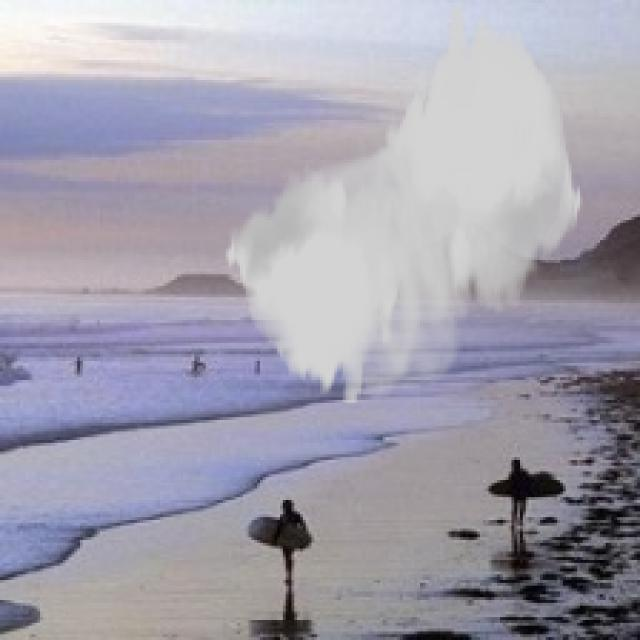smoke: (223, 3, 583, 406)
